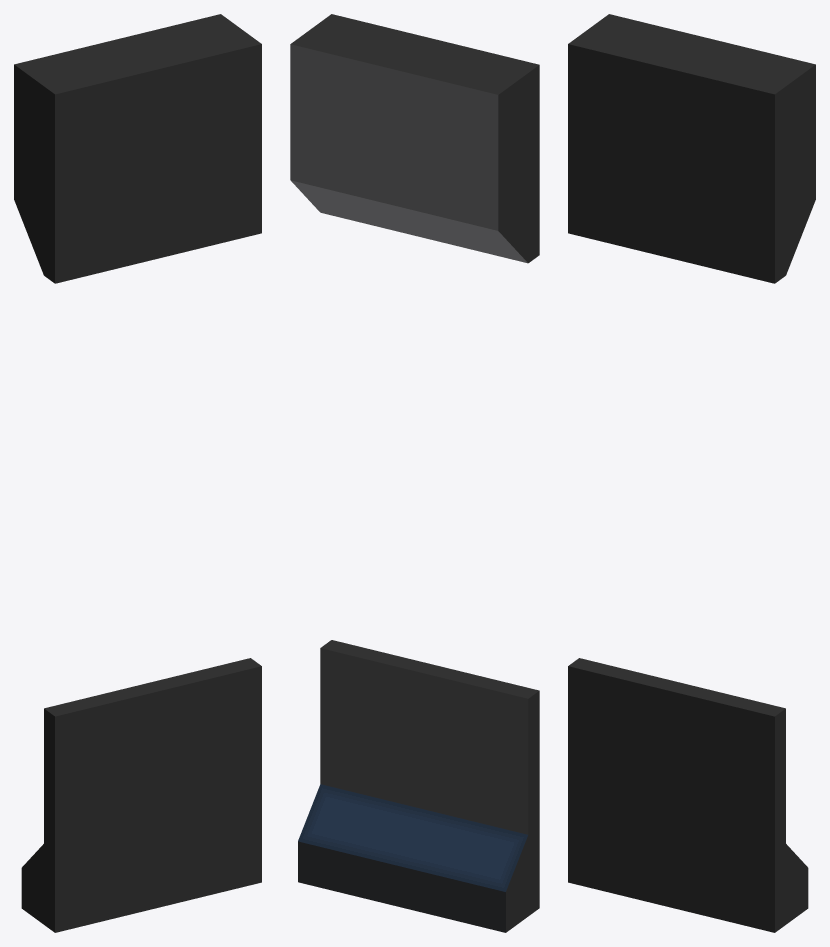
The model's file is CalShipCargoWallHoleMid.gltf.
The picture shows the model from 3 angles, left to right: view 1: azimuth 30°, elevation 25°; view 2: azimuth 150°, elevation 25°; view 3: azimuth 330°, elevation 25°; orthographic projection.
Visible parts, largest first — view 1: mesh; view 2: mesh; view 3: mesh.
Boxes of the visible parts, box(x1,y1,x2,y2) form: mesh: box(14, 14, 261, 932); mesh: box(290, 14, 539, 932); mesh: box(568, 14, 815, 932).
Size of the model in its own units: 1 by 3.88 by 0.3438.
Materials: 1 (1 with a texture image).
